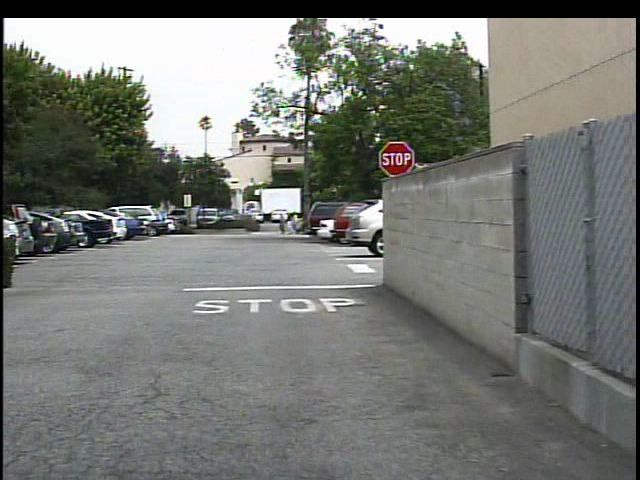person: (271, 213, 285, 239), (284, 211, 297, 236)
